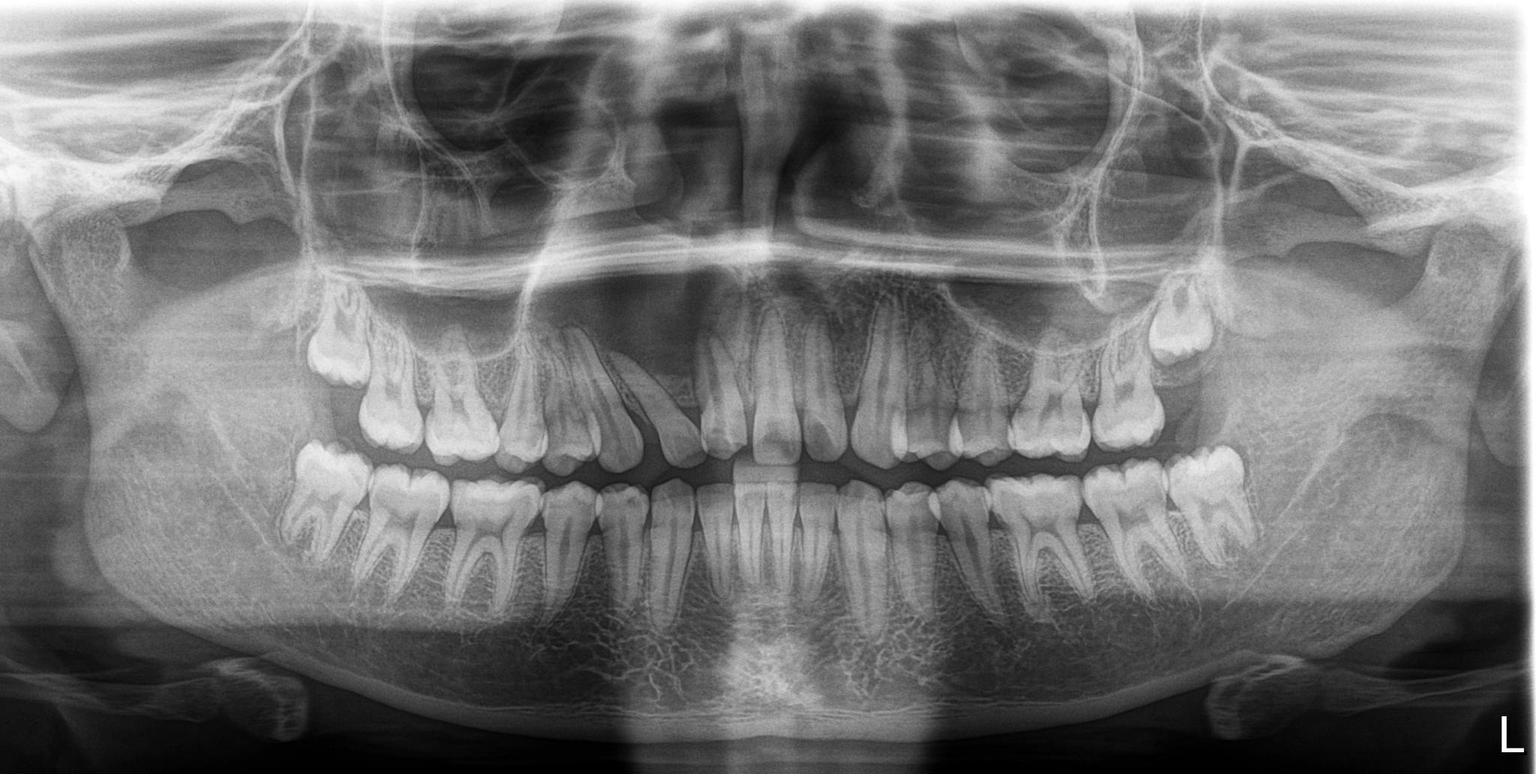Impacted Third Molar: (317, 279, 376, 401), (1151, 281, 1228, 370)
